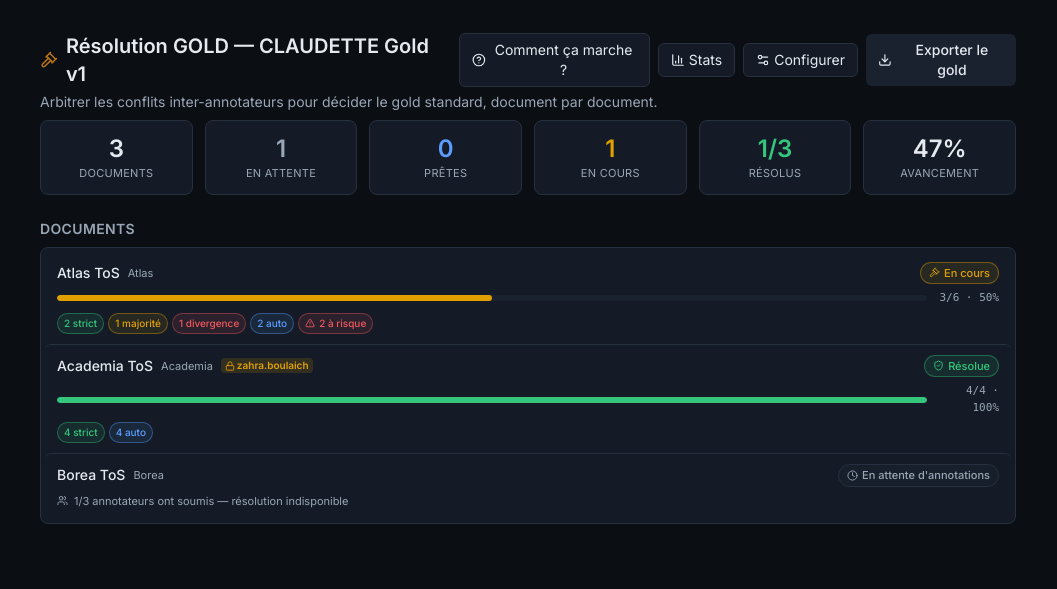
Test: GoldCockpit › expose le lien Stats et (admin) le bouton d'export gold
FIXTURE_USER est admin → bouton d'export visible.
Click the button with test id "gold-export".
click(941, 60)  # box [866,34,1016,86]
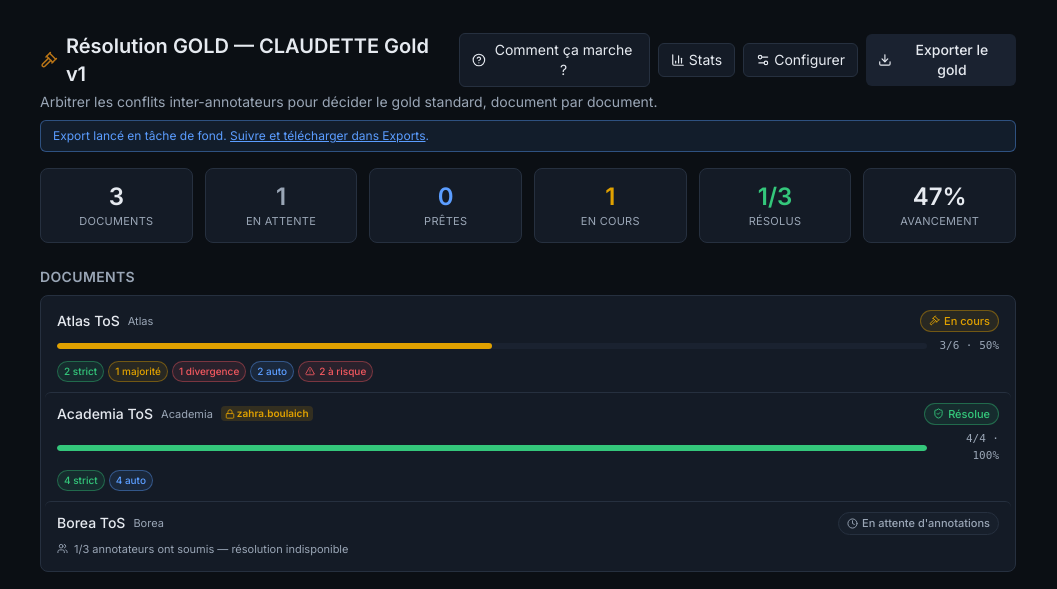
Check: the element with test id "gold-export-started" is shown, box [40,120,1016,152]
